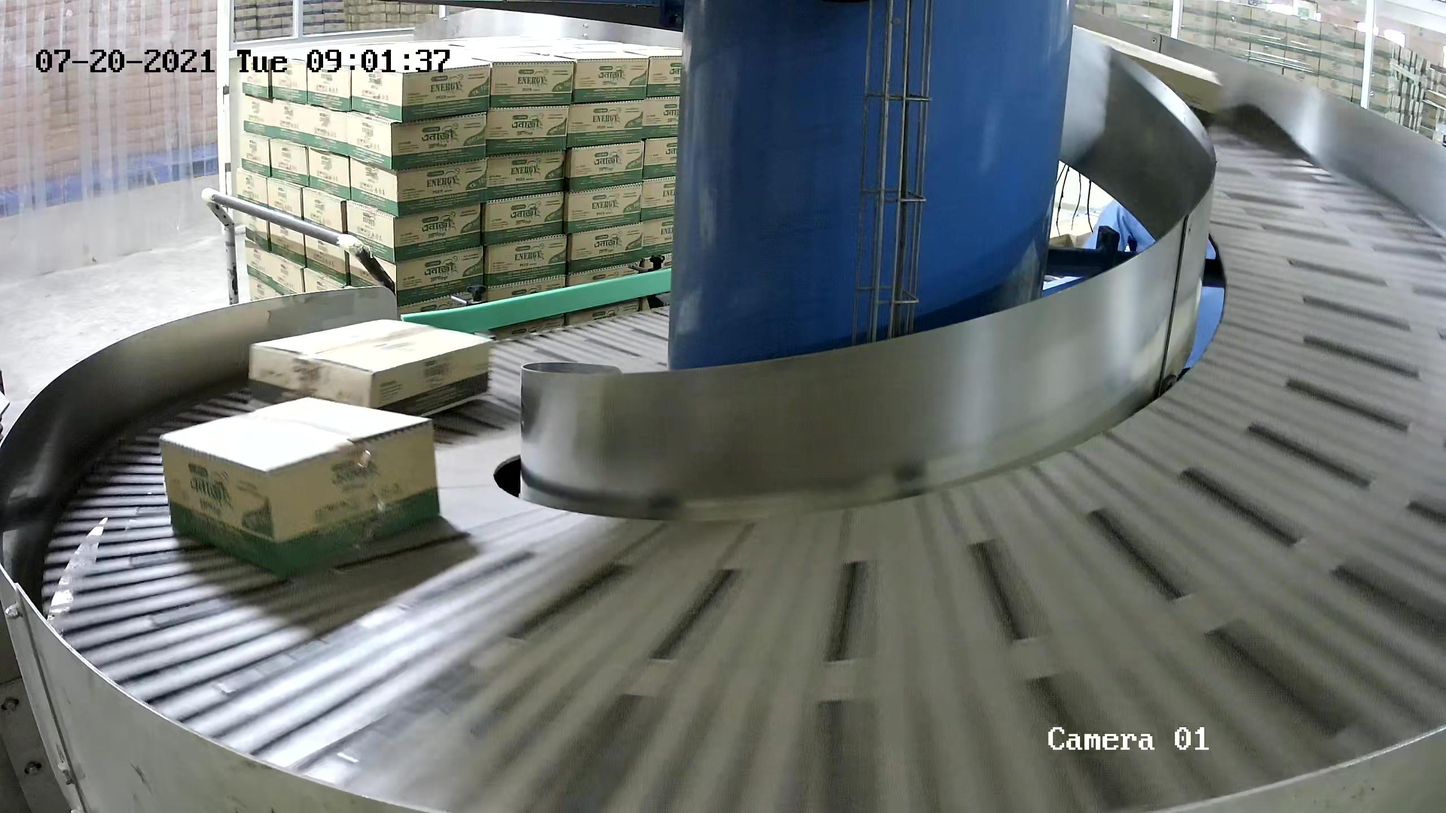Box: (158, 395, 442, 579), (247, 318, 494, 419)
